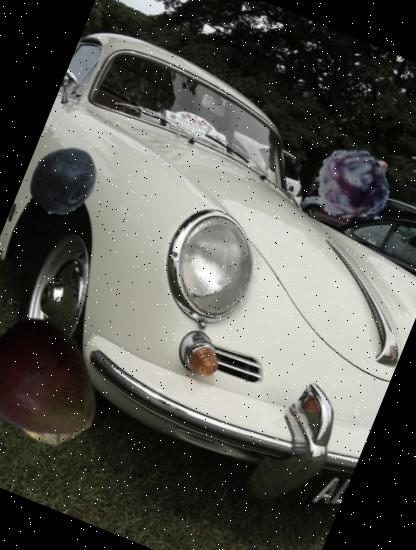Beetroot: (0, 347, 112, 464)
Blueberry: (18, 132, 110, 224)
Cantaloupe: (0, 344, 109, 460)
Dates: (305, 136, 400, 230)
Mango: (0, 296, 125, 468)
